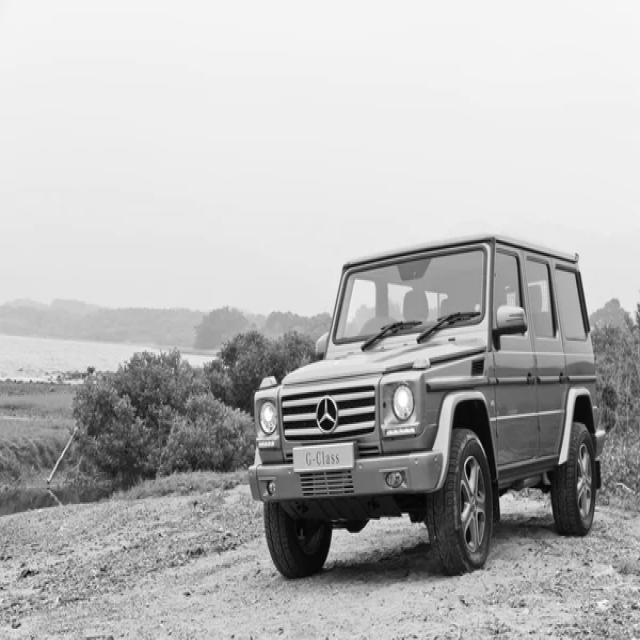Car: (248, 236, 606, 578)
